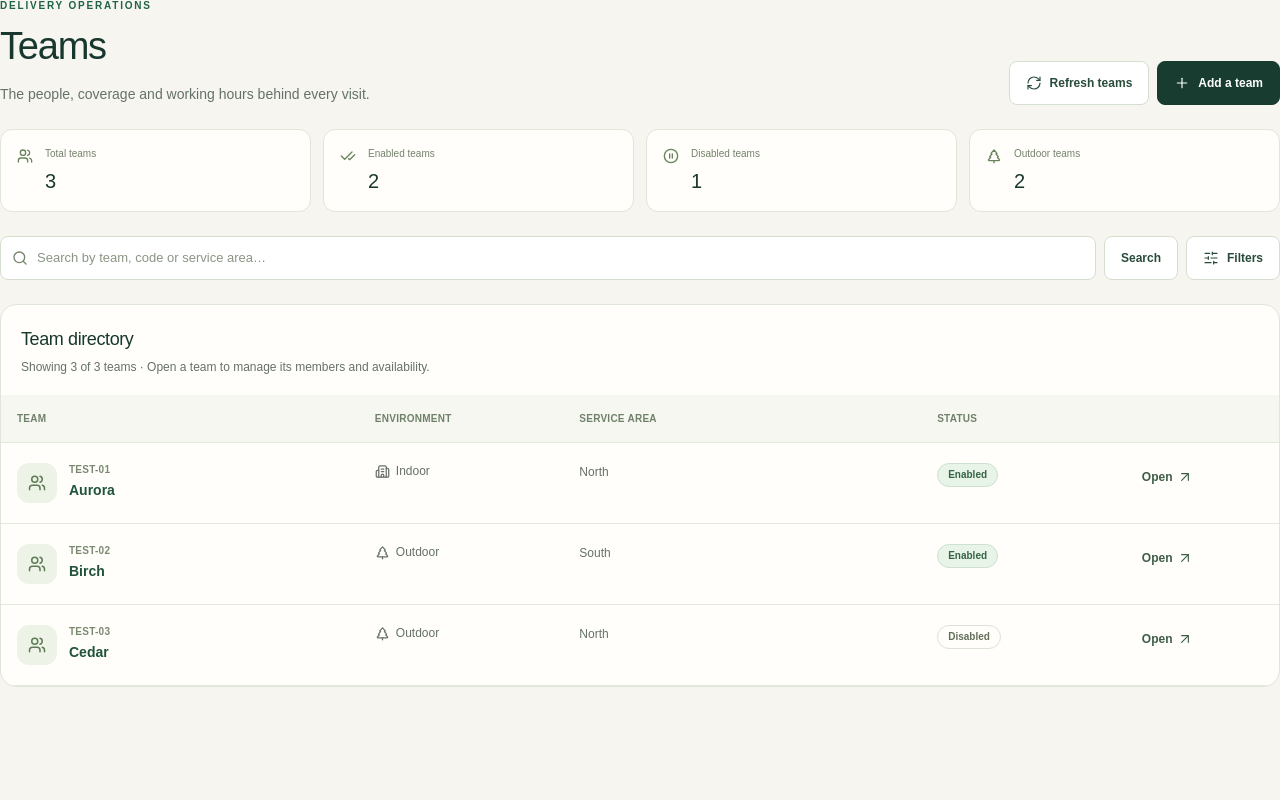
modern team directory › keeps a rejected creation draft available for correction with the same values
Expected: the table named "Teams" is shown, top-left (1, 394), bottom-right (1279, 686)
Click the button "Add a team" at (1219, 83), box top-left (1157, 61), bottom-right (1279, 105)
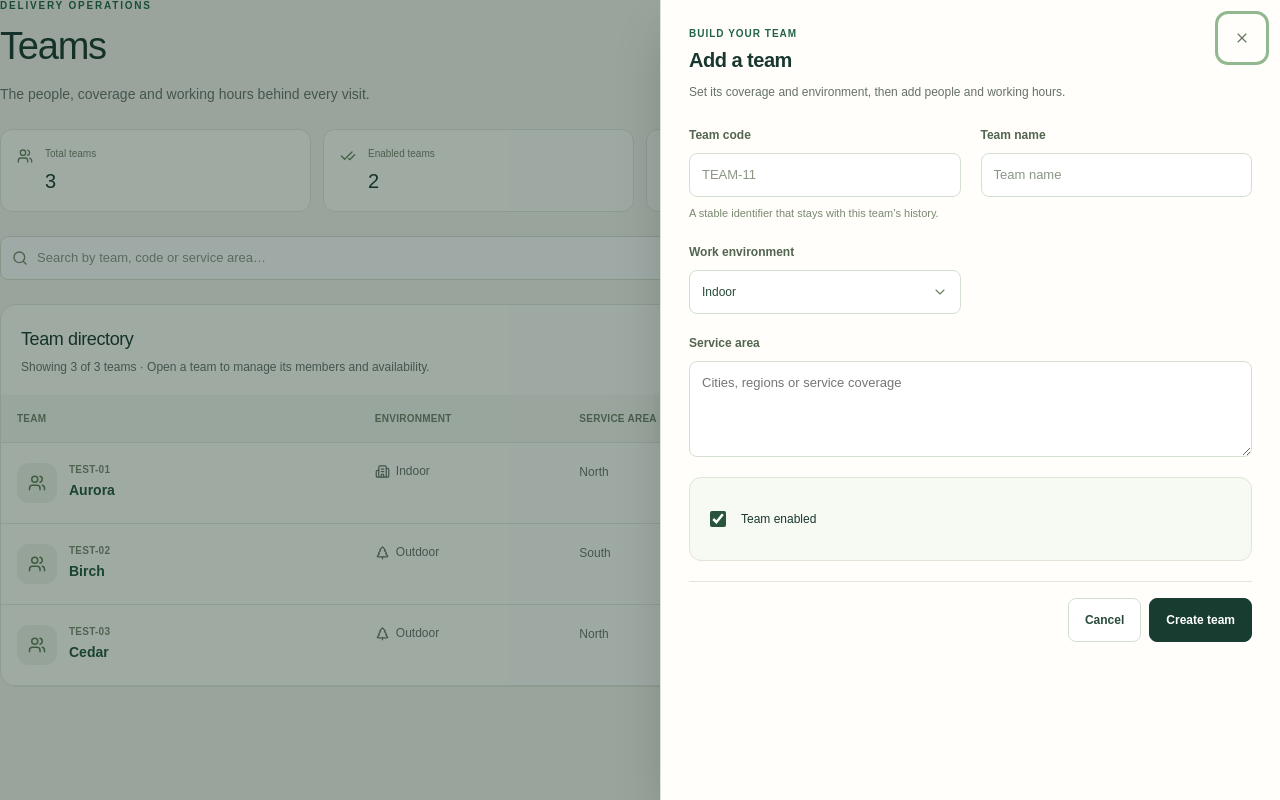
Type "TEST-11" into the field labelled "Team code" at (825, 175), box top-left (689, 153), bottom-right (960, 197)
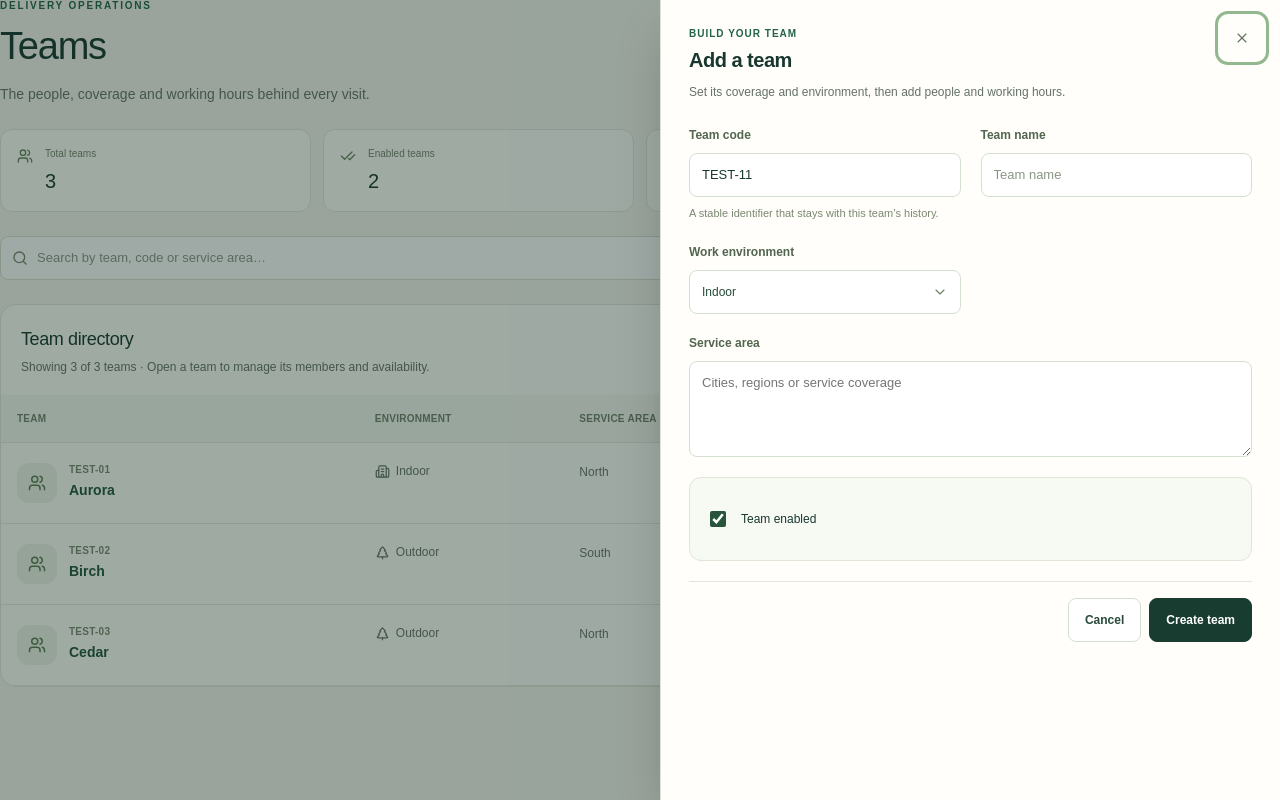
Type "Synthetic new team" into the field labelled "Team name" at (1116, 175), box top-left (980, 153), bottom-right (1252, 197)
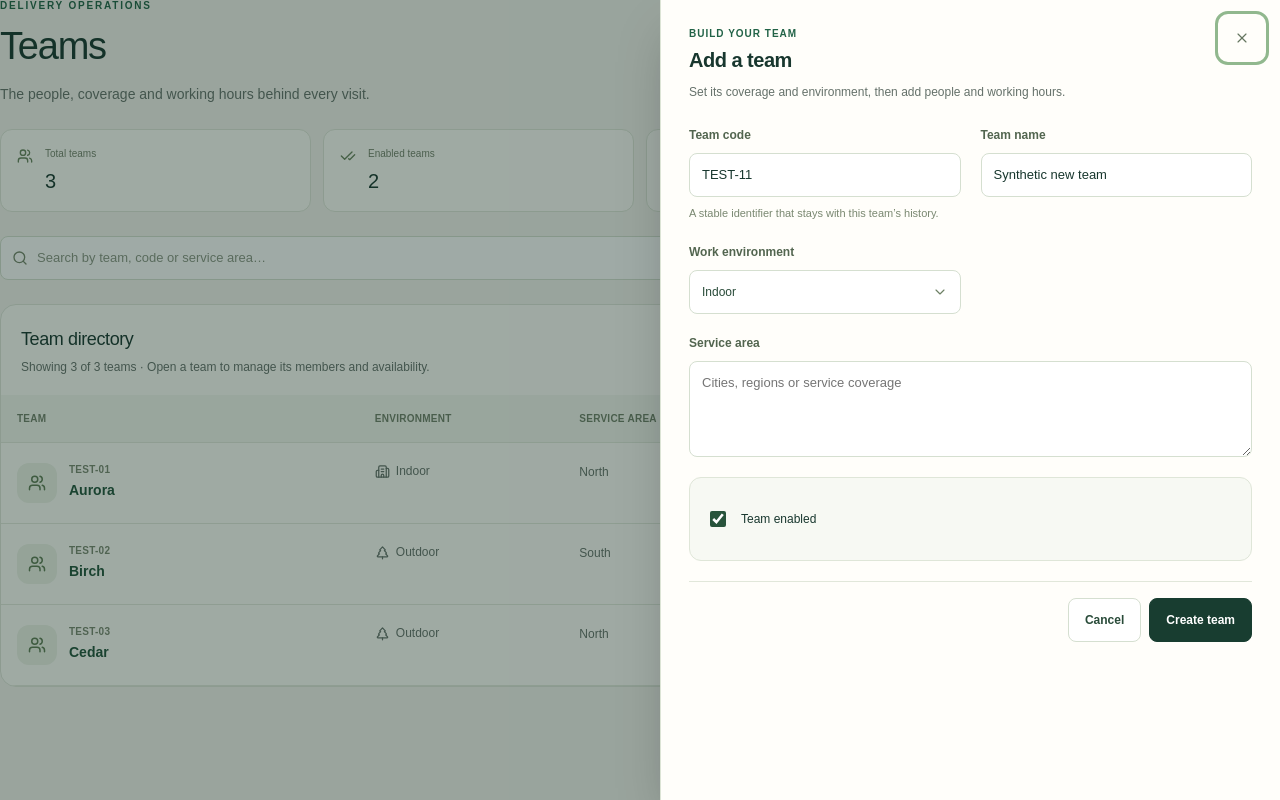
Select "Outdoor" in the dropdown labelled "Work environment" at (825, 292), box top-left (689, 270), bottom-right (960, 314)
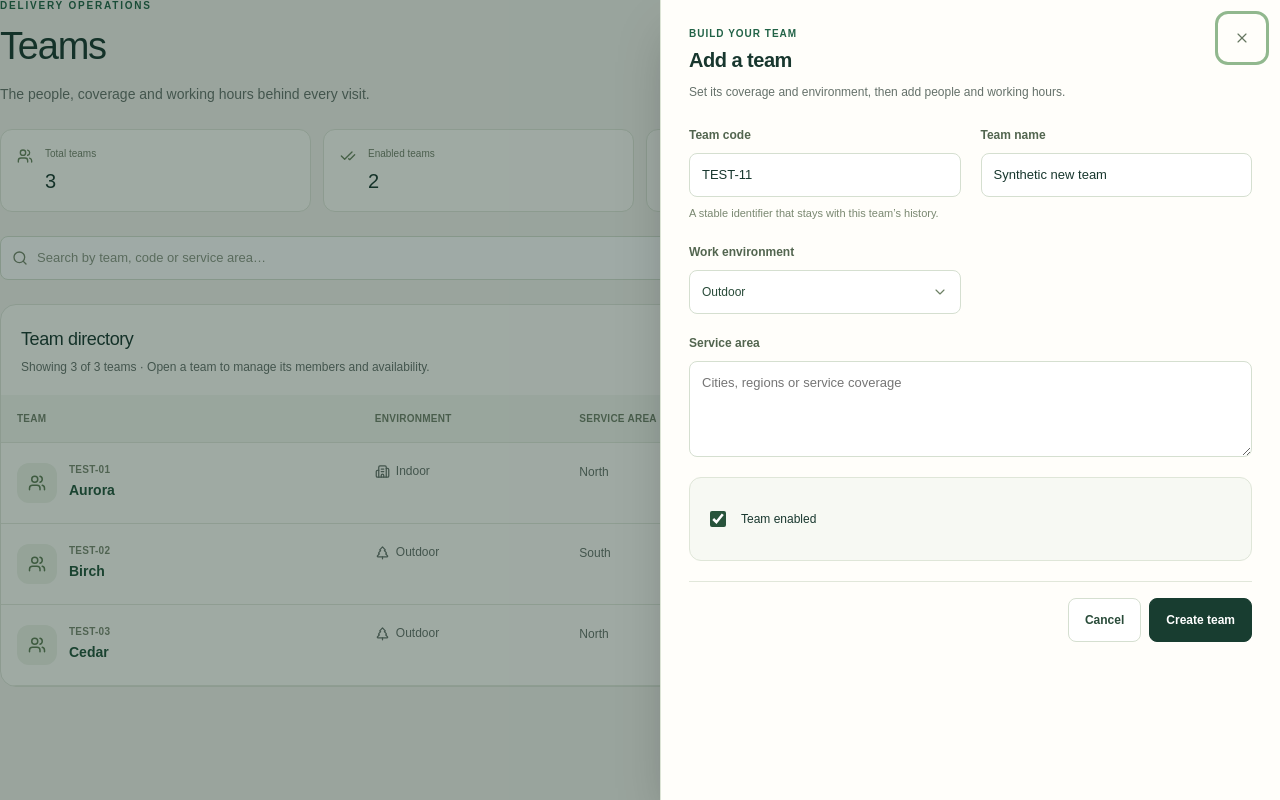
Type "West" into the text box labelled "Service area" at (970, 409), box top-left (689, 361), bottom-right (1252, 457)
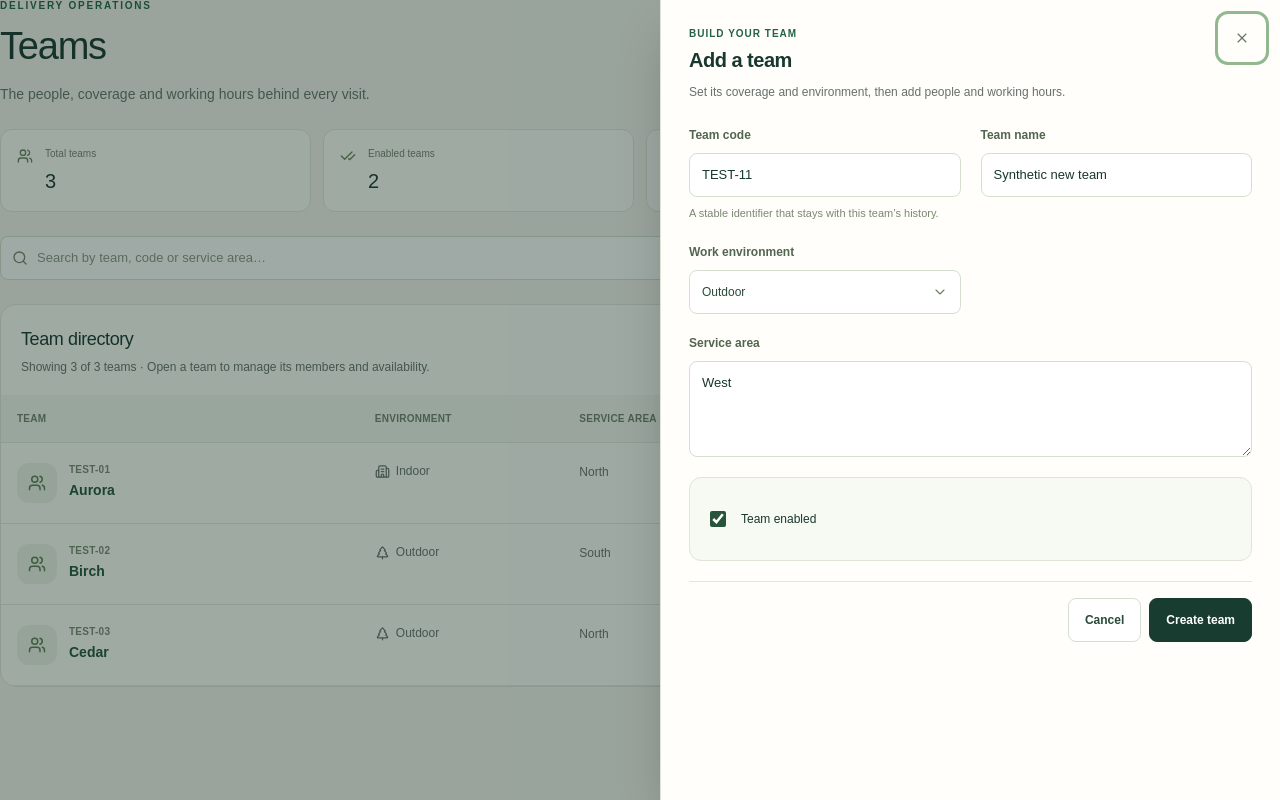
Submit the form named "Create team", box top-left (689, 126), bottom-right (1252, 642)
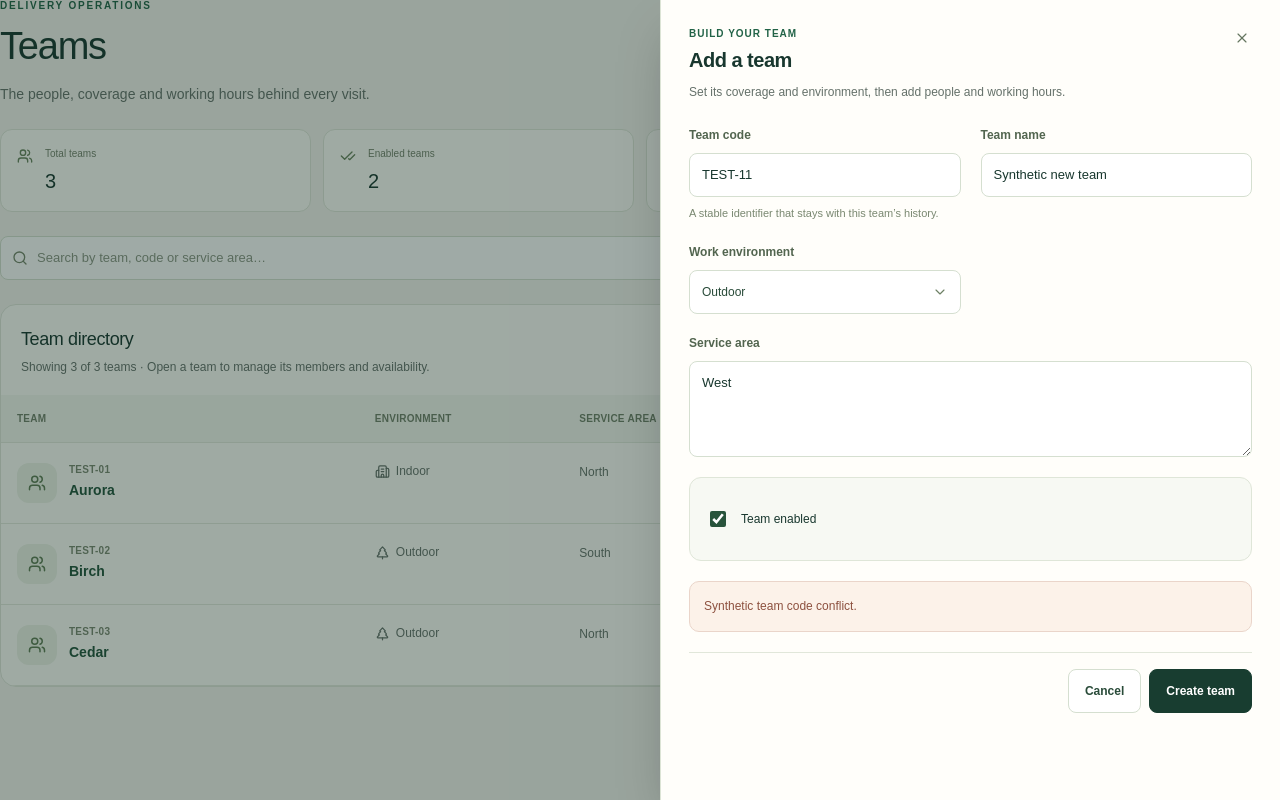
Expected: the button "Create team" is enabled, top-left (1149, 669), bottom-right (1252, 713)
Expected: the message reads "Synthetic team code conflict.", top-left (704, 599), bottom-right (857, 613)
